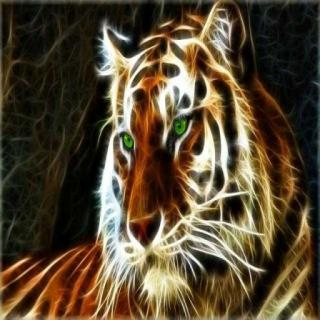Tiger: (31, 2, 320, 317)
